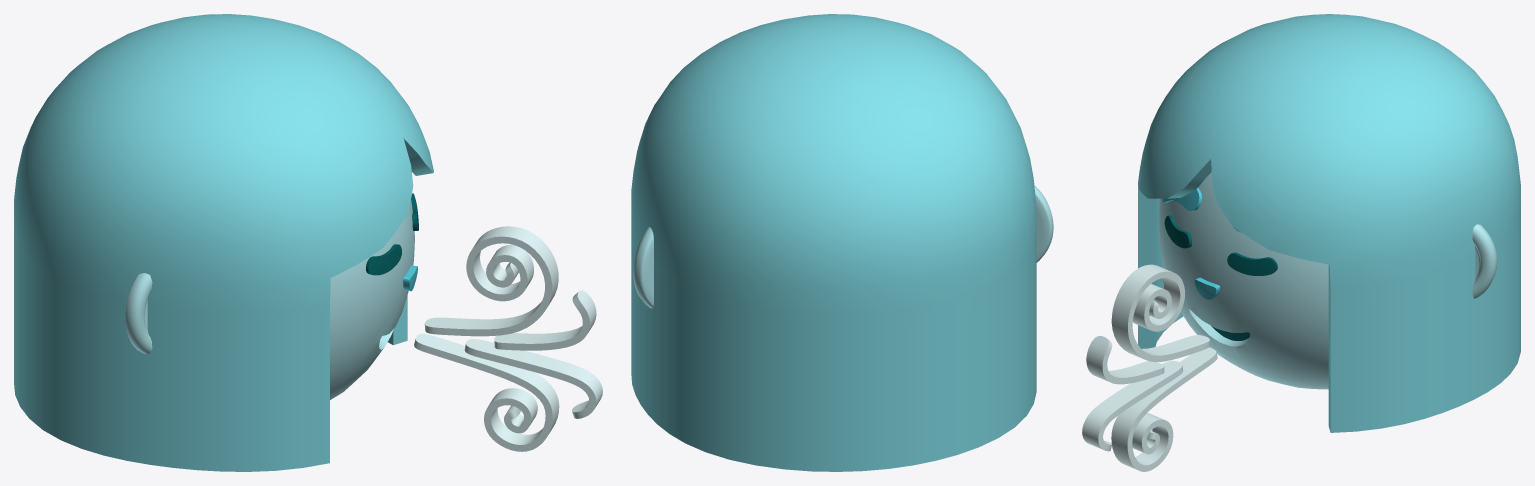
The model's file is wind_face.gltf.
3 renders of one model, left to right at view 1: azimuth 30°, elevation 25°; view 2: azimuth 150°, elevation 25°; view 3: azimuth 270°, elevation 25°, orthographic. The views are drawn at different scales.
Visible parts, largest first — view 1: Roundcube.429, Plane.189, Roundcube.428, Cylinder.376, Circle.2124; view 2: Roundcube.429, Cylinder.376; view 3: Roundcube.429, Roundcube.428, Plane.189, Circle.2124, Cylinder.376.
Part boxes in pixels (bbox=[...]): Roundcube.429: bbox=[14, 14, 433, 471]; Plane.189: bbox=[414, 226, 602, 451]; Roundcube.428: bbox=[330, 200, 414, 399]; Cylinder.376: bbox=[125, 273, 152, 353]; Circle.2124: bbox=[366, 193, 418, 275]; Roundcube.429: bbox=[631, 14, 1036, 471]; Cylinder.376: bbox=[633, 185, 1053, 308]; Roundcube.429: bbox=[1138, 14, 1520, 432]; Roundcube.428: bbox=[1158, 172, 1328, 389]; Plane.189: bbox=[1082, 264, 1217, 471]; Circle.2124: bbox=[1162, 188, 1277, 275]; Cylinder.376: bbox=[1472, 224, 1497, 298].
Size of the model in its own units: 1.8 by 1.51 by 1.74.
1 material, 1 textured.
